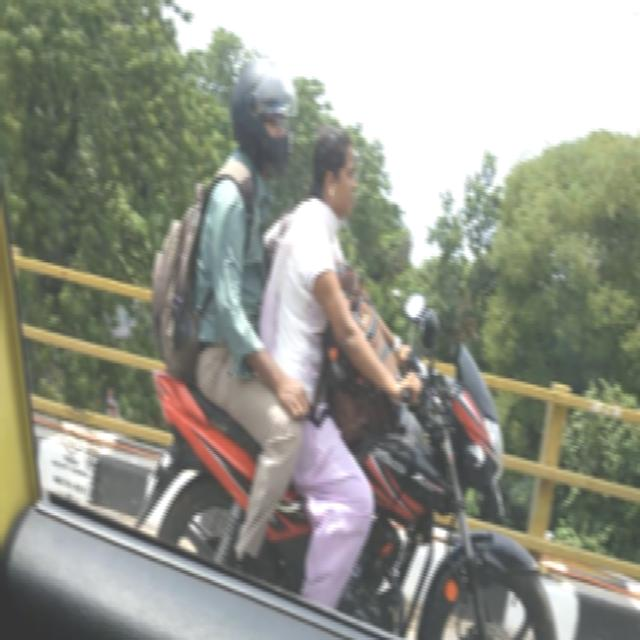Without Helmet: (307, 115, 372, 228)
